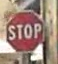stop: (5, 8, 45, 53)
